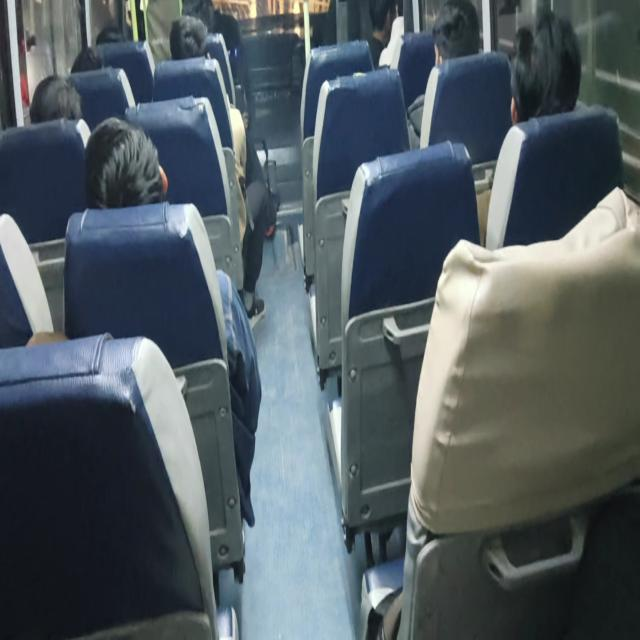person: (79, 111, 183, 200), (514, 9, 579, 112), (428, 4, 478, 74), (160, 6, 212, 68), (33, 56, 79, 121), (360, 0, 403, 41), (66, 37, 109, 75), (91, 20, 139, 48)
